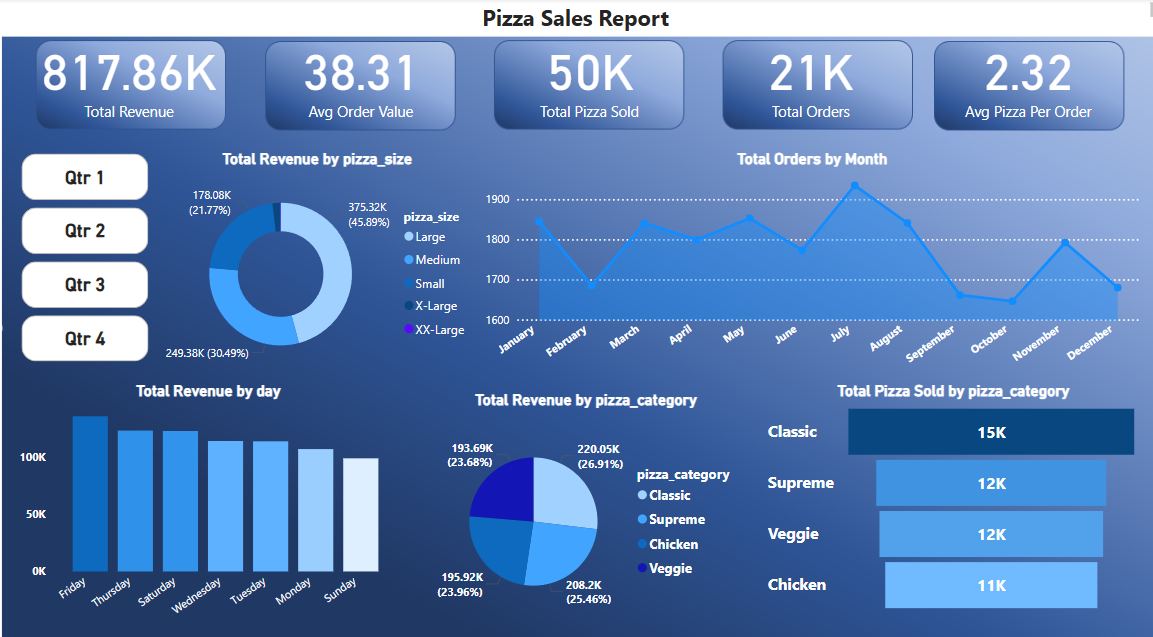

The page's visual inventory and layout, read from the dashboard file:
{"tool":"powerbi","page":{"name":"Page 1","canvas":[1280,720],"ordinal":0},"visuals":[{"type":"card","fields":{"Values":["pizza_sales.Total Revenue"]},"box":[41.2,31.6,209.9,108.4],"z":0},{"type":"card","fields":{"Values":["pizza_sales.Avg Order Value"]},"box":[289.5,31.6,222.3,108.4],"z":1000},{"type":"card","fields":{"Values":["pizza_sales.Total Pizza Sold"]},"box":[532.4,31.6,238.8,108.4],"z":2000},{"type":"card","fields":{"Values":["pizza_sales.Total Orders"]},"box":[771.2,31.6,247,108.4],"z":3000},{"type":"card","fields":{"Values":["pizza_sales.Avg Pizza Per Order"]},"box":[1007.2,31.6,252.5,108.4],"z":4000},{"type":"stackedAreaChart","fields":{"Category":["pizza_sales.order_date.Variation.Date Hierarchy.Month"],"Y":["pizza_sales.Total Orders"]},"box":[532.4,166,727.3,255.2],"z":5000},{"type":"funnel","fields":{"Y":["pizza_sales.Total Pizza Sold"],"Category":["pizza_sales.pizza_category"]},"box":[842.5,421.3,417.2,259.3],"z":6000},{"type":"donutChart","fields":{"Y":["pizza_sales.Total Revenue"],"Category":["pizza_sales.pizza_size"]},"box":[172.9,166,359.5,255.2],"z":7000},{"type":"pieChart","fields":{"Category":["pizza_sales.pizza_category"],"Y":["pizza_sales.Total Revenue"]},"box":[472,430.9,351.3,269],"z":8000},{"type":"columnChart","fields":{"Y":["pizza_sales.Total Revenue"],"Category":["pizza_sales.day"]},"box":[20.6,421.3,425.4,278.6],"z":9000},{"type":"advancedSlicerVisual","fields":{"Values":["pizza_sales.order_date.Variation.Date Hierarchy.Quarter"]},"box":[23.3,166,149.6,241.5],"z":9001},{"type":"textbox","box":[0,0,1280.3,50.8],"z":9002}]}

Visuals, with their boxes in screenshot pixels (x1, y1, x2, y2), scaled from the page's 1280x720 canvas onto the 1153x637 screenshot:
card - pizza_sales.Total Revenue: [left=37, top=28, right=226, bottom=124]
card - pizza_sales.Avg Order Value: [left=261, top=28, right=461, bottom=124]
card - pizza_sales.Total Pizza Sold: [left=480, top=28, right=695, bottom=124]
card - pizza_sales.Total Orders: [left=695, top=28, right=917, bottom=124]
card - pizza_sales.Avg Pizza Per Order: [left=907, top=28, right=1135, bottom=124]
stackedAreaChart - pizza_sales.order_date.Variation.Date Hierarchy.Month x pizza_sales.Total Orders: [left=480, top=147, right=1135, bottom=373]
funnel - pizza_sales.Total Pizza Sold x pizza_sales.pizza_category: [left=759, top=373, right=1135, bottom=602]
donutChart - pizza_sales.Total Revenue x pizza_sales.pizza_size: [left=156, top=147, right=480, bottom=373]
pieChart - pizza_sales.pizza_category x pizza_sales.Total Revenue: [left=425, top=381, right=742, bottom=619]
columnChart - pizza_sales.Total Revenue x pizza_sales.day: [left=19, top=373, right=402, bottom=619]
advancedSlicerVisual - pizza_sales.order_date.Variation.Date Hierarchy.Quarter: [left=21, top=147, right=156, bottom=361]
textbox: [left=0, top=0, right=1152, bottom=45]
